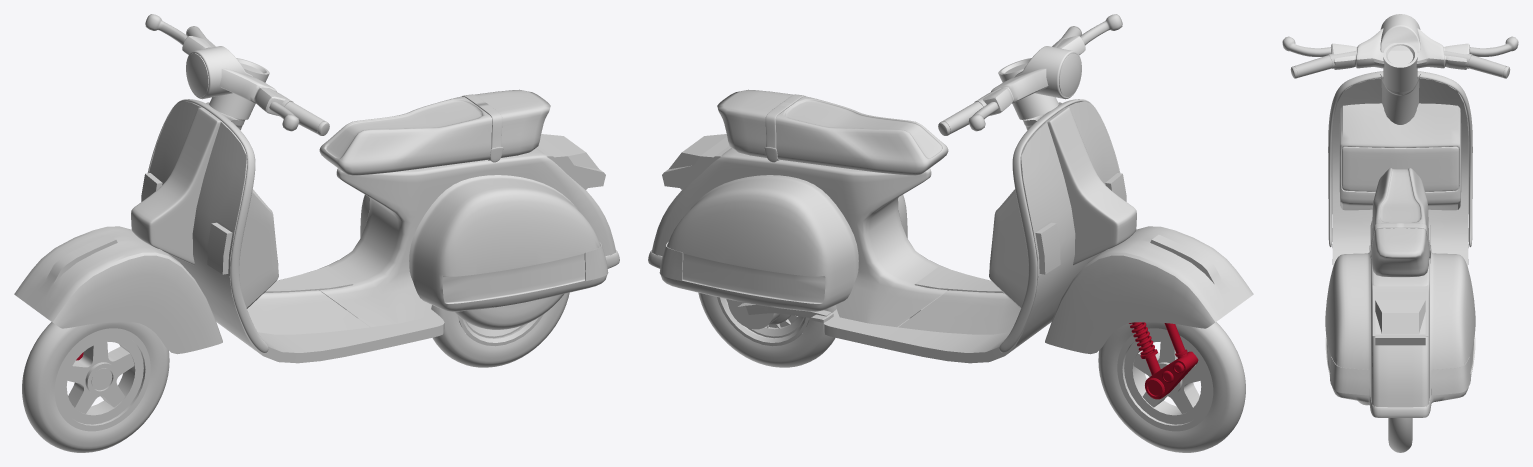
File: vespaModel.fbx
3 renders of one model, left to right at view 1: azimuth 30°, elevation 25°; view 2: azimuth 150°, elevation 25°; view 3: azimuth 270°, elevation 25°, orthographic. The views are drawn at different scales.
Visible parts, largest first — view 1: BodyKiri, BodyTengah, bodyDepan, SpakborDepan, Jok, TrDpn, Circle, BodyDepanTengah, Steering, TrBlk, Plane.001, BanS (+8 smaller); view 2: BodyKanan, BodyTengah, bodyDepan, SpakborDepan, Jok, TrDpn, BodyDepanTengah, Circle, Steering, TrBlk, Plane.001, wheel.f.steering (+10 smaller); view 3: bodyDepan, BodyTengah, Jok, BodyKiri, BodyKanan, Steering, LampuBlk, Cube.002, Plane.001, Stang, Rem, TrBlk (+3 smaller).
Part boxes in pixels (left/top/right/bottom): BodyKiri: left=409, top=175, right=606, bottom=311; BodyTengah: left=206, top=102, right=616, bottom=334; bodyDepan: left=141, top=101, right=444, bottom=363; SpakborDepan: left=14, top=226, right=222, bottom=354; Jok: left=319, top=89, right=550, bottom=175; TrDpn: left=22, top=322, right=169, bottom=452; Circle: left=54, top=328, right=150, bottom=431; BodyDepanTengah: left=131, top=107, right=221, bottom=265; Steering: left=182, top=36, right=287, bottom=119; TrBlk: left=431, top=292, right=569, bottom=367; Plane.001: left=147, top=99, right=268, bottom=352; BanS: left=454, top=294, right=563, bottom=329; BodyKanan: left=661, top=175, right=858, bottom=311; BodyTengah: left=651, top=102, right=1061, bottom=334; bodyDepan: left=823, top=101, right=1126, bottom=363; SpakborDepan: left=1045, top=226, right=1253, bottom=354; Jok: left=717, top=89, right=948, bottom=175; TrDpn: left=1098, top=322, right=1245, bottom=452; BodyDepanTengah: left=1046, top=107, right=1136, bottom=265; Circle: left=1117, top=328, right=1213, bottom=431; Steering: left=980, top=36, right=1085, bottom=119; TrBlk: left=698, top=292, right=836, bottom=367; Plane.001: left=999, top=99, right=1120, bottom=352; wheel.f.steering: left=1129, top=322, right=1198, bottom=399; bodyDepan: left=1331, top=78, right=1469, bottom=266; BodyTengah: left=1370, top=74, right=1430, bottom=407; Jok: left=1371, top=168, right=1429, bottom=277; BodyKiri: left=1325, top=252, right=1370, bottom=403; BodyKanan: left=1430, top=252, right=1475, bottom=403; Steering: left=1331, top=14, right=1469, bottom=92; LampuBlk: left=1375, top=292, right=1425, bottom=345; Cube.002: left=1330, top=357, right=1470, bottom=395; Plane.001: left=1328, top=71, right=1472, bottom=247; Stang: left=1290, top=50, right=1510, bottom=78; Rem: left=1282, top=36, right=1518, bottom=56; TrBlk: left=1388, top=418, right=1412, bottom=452.
Size of the model in its own units: 196 by 124 by 84.45.
